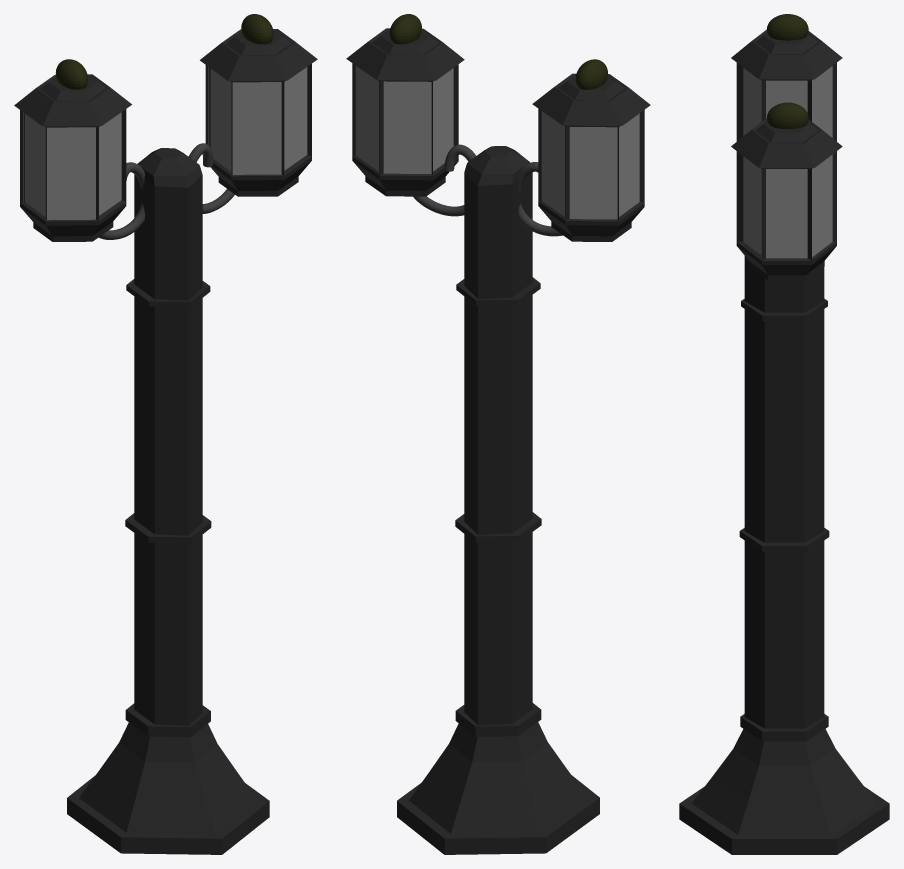
Rendered from lantaarn.fbx.
3 views of the same model, side by side, from view 1: azimuth 30°, elevation 25°; view 2: azimuth 150°, elevation 25°; view 3: azimuth 270°, elevation 25° (orthographic). The views are drawn at different scales.
Visible parts, largest first — view 1: Cylinder, NurbsPath; view 2: Cylinder, NurbsPath; view 3: Cylinder.
Boxes of the visible parts, x1,y1,x2,y2 form: Cylinder: (14,14,317,854); NurbsPath: (99,143,234,239); Cylinder: (346,14,650,854); NurbsPath: (413,144,562,236); Cylinder: (679,14,889,854).
Size of the model in its own units: 446 by 1201 by 302.
